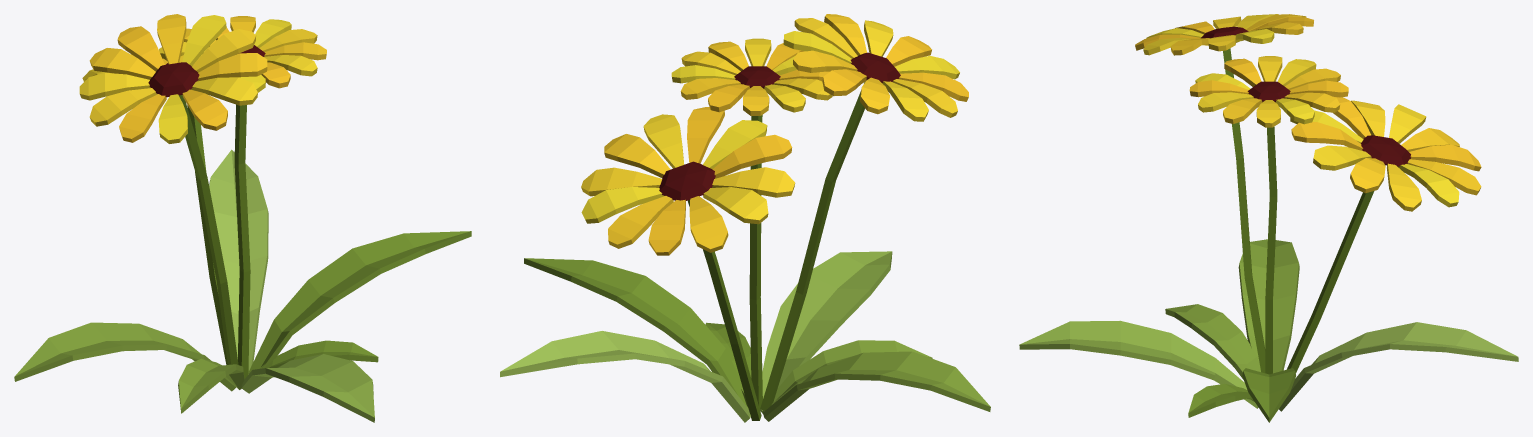
Rendered from Flower_01.fbx.
3 views of the same model, side by side, from view 1: azimuth 30°, elevation 25°; view 2: azimuth 150°, elevation 25°; view 3: azimuth 270°, elevation 25° (orthographic). The views are drawn at different scales.
Parts seen in each view (by area): view 1: Flower_01; view 2: Flower_01; view 3: Flower_01.
Boxes of the visible parts, bbox=[...] form: Flower_01: bbox=[14, 14, 471, 422]; Flower_01: bbox=[500, 14, 990, 422]; Flower_01: bbox=[1019, 14, 1518, 422].
Bounding box in the file's own units: 0.444 × 0.3526 × 0.4434.
